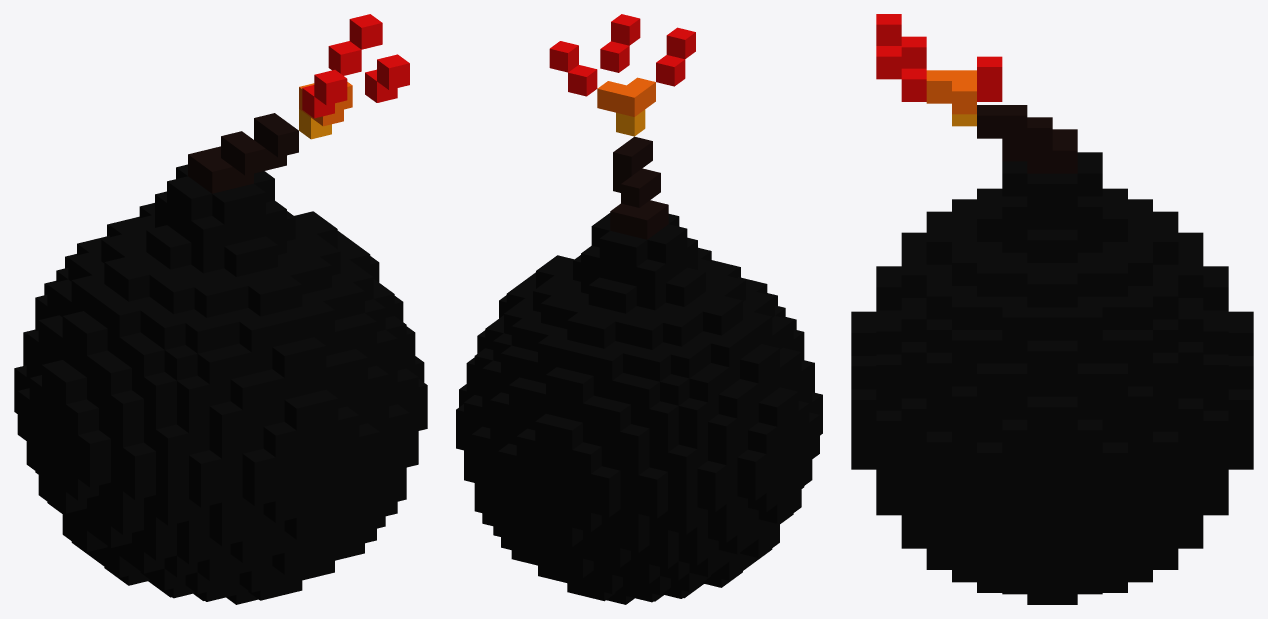
Rendered from Bomb.obj.
3 views of the same model, side by side, from view 1: azimuth 30°, elevation 25°; view 2: azimuth 150°, elevation 25°; view 3: azimuth 270°, elevation 25° (orthographic). The views are drawn at different scales.
Size of the model in its own units: 1.6 by 2.5 by 1.6.
Materials: 1 (1 with a texture image).
